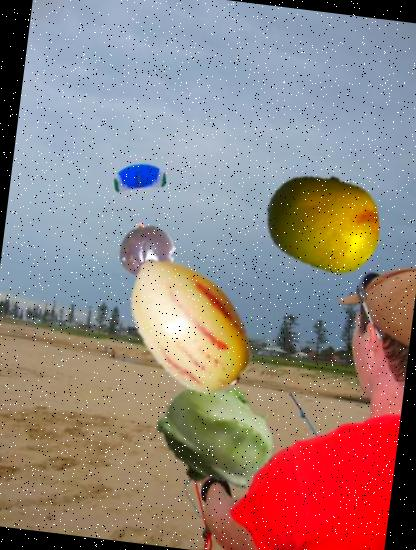Kohlrabi: (150, 368, 286, 504)
Passion: (114, 219, 179, 284)
Pepino: (104, 240, 272, 408)
Pomelo: (257, 156, 389, 288)
